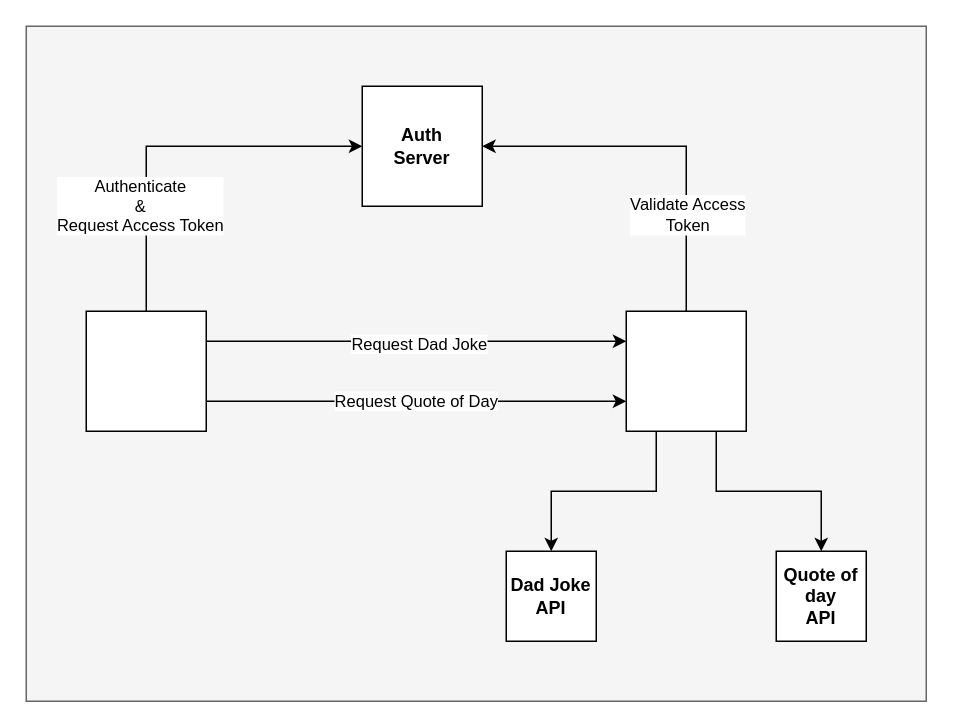
The diagram is 953 pixels wide and 728 high, and some of its shapes have lost their labels. Here are the shapes that lost their labels. From the top down, the centre of each, then its label:
[145,370]: React SPA
[685,370]: Springboot Resource Server
